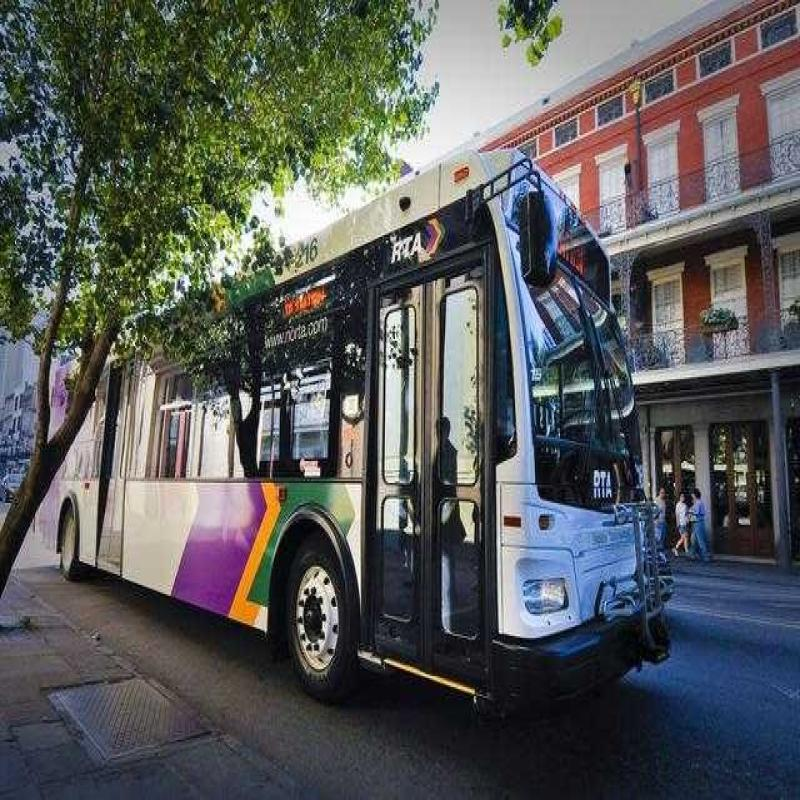bus: (103, 161, 704, 741)
